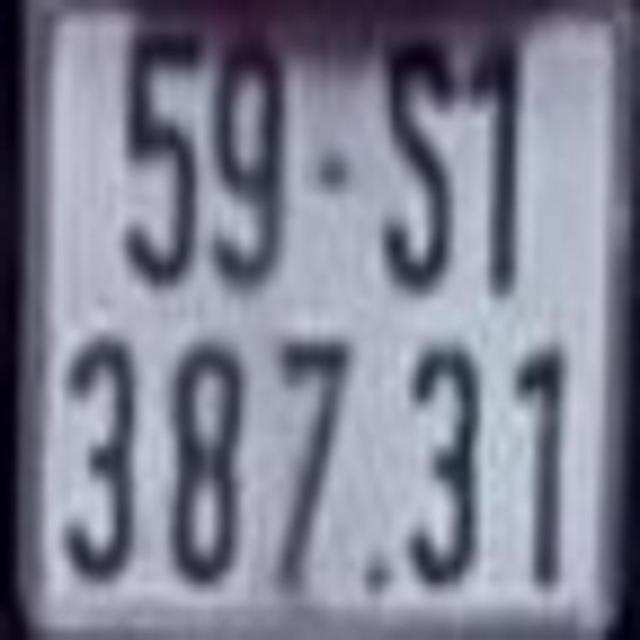1: (472, 38, 522, 296), (518, 338, 564, 589)
3: (61, 333, 132, 572), (414, 344, 481, 583)
5: (128, 36, 197, 284)
7: (282, 342, 348, 588)
8: (174, 346, 234, 577)
9: (220, 45, 282, 278)
S: (390, 42, 454, 293)
